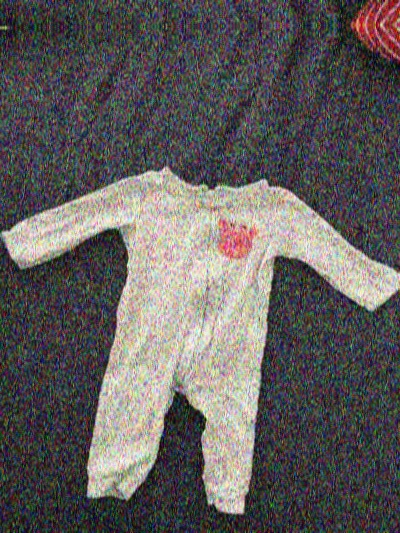Body: (0, 148, 400, 523)
